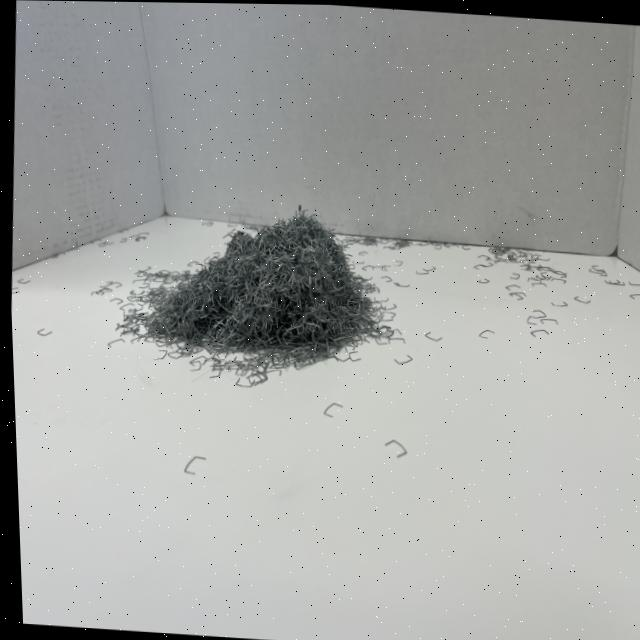staples: (102, 192, 405, 399)
